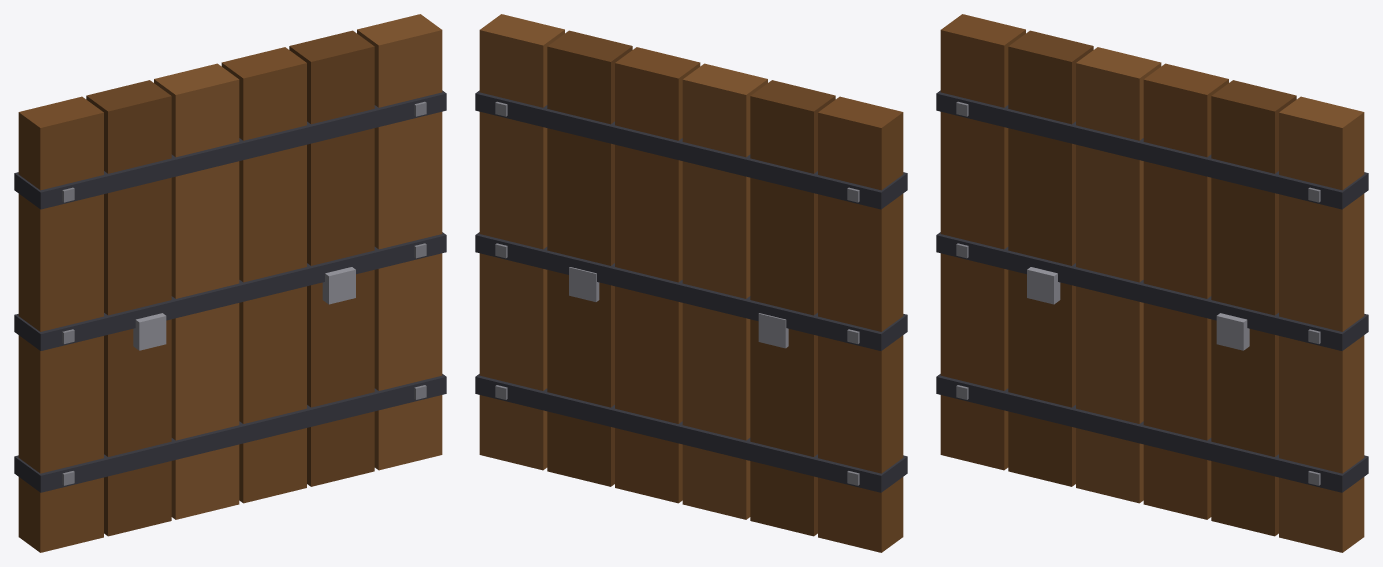
Rendered from door.glb.
3 renders of one model, left to right at view 1: azimuth 30°, elevation 25°; view 2: azimuth 150°, elevation 25°; view 3: azimuth 330°, elevation 25°, orthographic.
Parts seen in each view (by area): view 1: plank0, plank2, plank5, plank3, plank1, plank4, band.002, band, band.001, ring2, ring; view 2: plank0, plank2, plank5, plank3, plank1, plank4, band.002, band, band.001, ring2, ring; view 3: plank5, plank3, plank0, plank2, plank4, plank1, band.002, band, band.001, ring, ring2.
Part boxes in pixels (left/top/right/bottom): plank0: left=18, top=96, right=103, bottom=552; plank2: left=154, top=63, right=239, bottom=519; plank5: left=357, top=14, right=442, bottom=470; plank3: left=221, top=47, right=306, bottom=503; plank1: left=86, top=80, right=171, bottom=536; plank4: left=289, top=30, right=374, bottom=486; band.002: left=14, top=90, right=446, bottom=209; band: left=14, top=374, right=446, bottom=492; band.001: left=14, top=232, right=446, bottom=350; ring2: left=133, top=313, right=166, bottom=350; ring: left=322, top=267, right=355, bottom=304; plank0: left=818, top=96, right=903, bottom=552; plank2: left=682, top=63, right=767, bottom=519; plank5: left=479, top=14, right=564, bottom=470; plank3: left=615, top=47, right=700, bottom=503; plank1: left=750, top=80, right=835, bottom=536; plank4: left=547, top=30, right=632, bottom=486; band.002: left=475, top=90, right=907, bottom=209; band: left=475, top=374, right=907, bottom=492; band.001: left=475, top=232, right=907, bottom=350; ring2: left=758, top=313, right=788, bottom=348; ring: left=569, top=267, right=599, bottom=301; plank5: left=1279, top=96, right=1364, bottom=552; plank3: left=1143, top=63, right=1228, bottom=519; plank0: left=940, top=14, right=1025, bottom=470; plank2: left=1076, top=47, right=1161, bottom=503; plank4: left=1211, top=80, right=1296, bottom=536; plank1: left=1008, top=30, right=1093, bottom=486; band.002: left=936, top=90, right=1368, bottom=209; band: left=936, top=374, right=1368, bottom=492; band.001: left=936, top=232, right=1368, bottom=350; ring: left=1216, top=313, right=1249, bottom=350; ring2: left=1027, top=267, right=1060, bottom=304.
Size of the model in its own units: 3 by 3 by 0.41.
